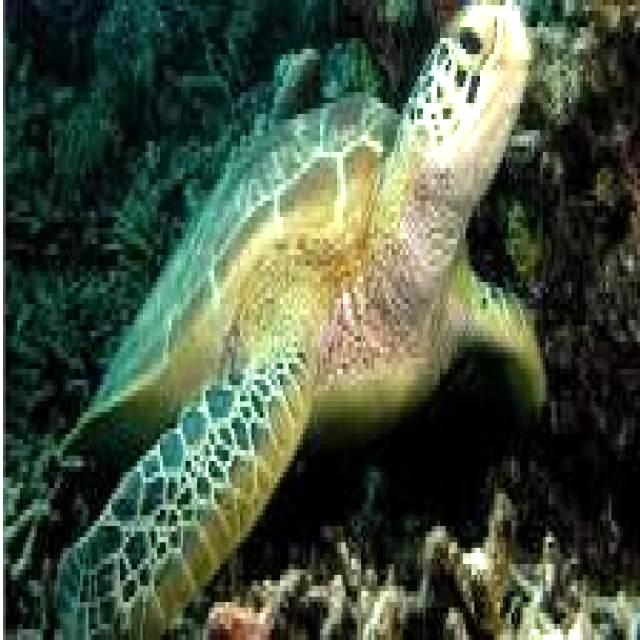Sea turtle: (53, 0, 548, 640)
